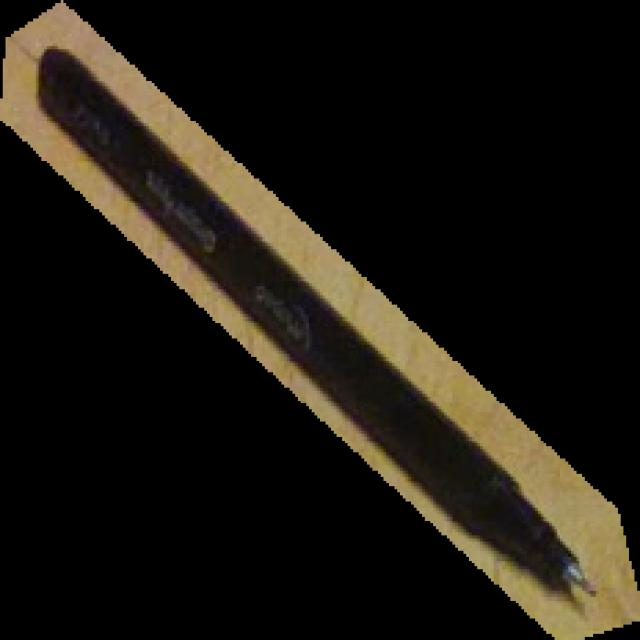black: (0, 1, 640, 640)
